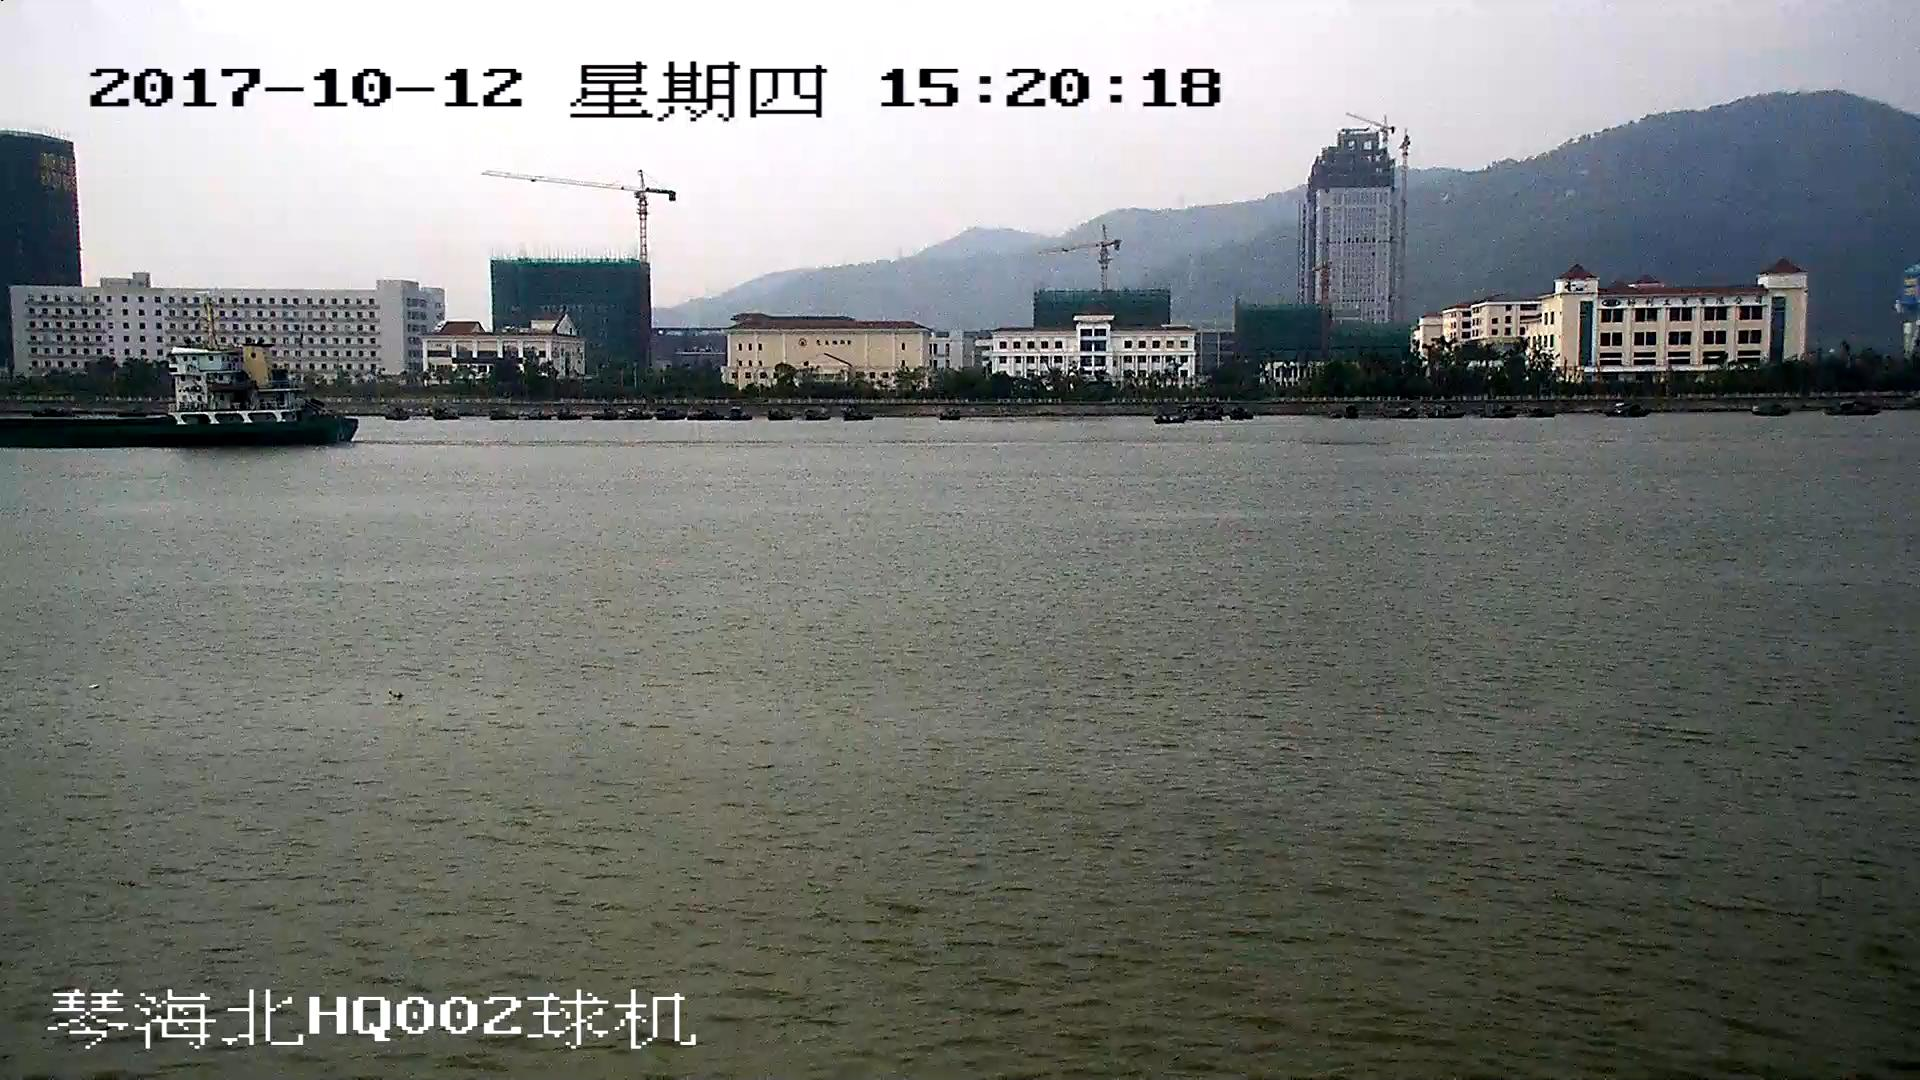general cargo ship: (1, 352, 356, 450)
